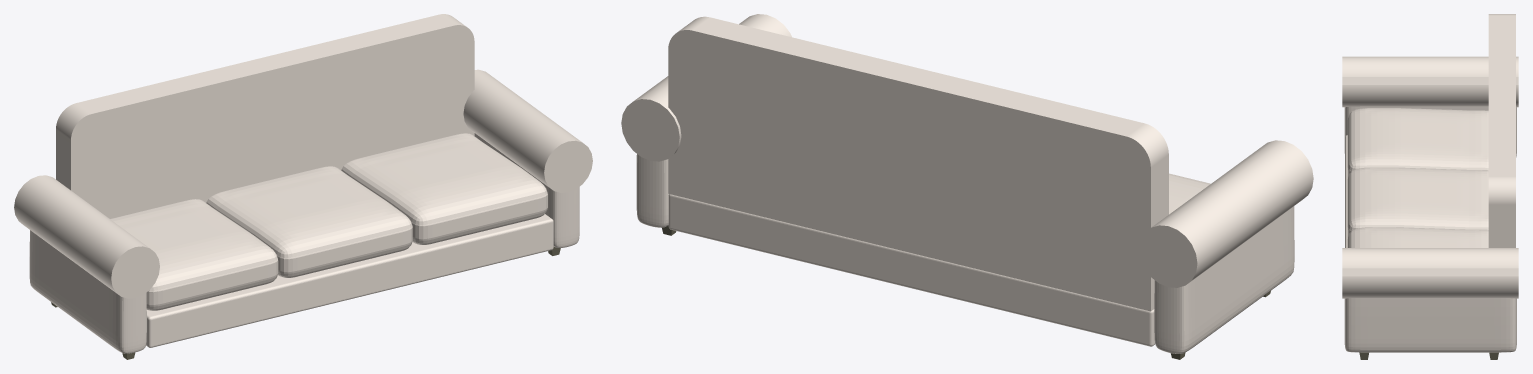
The model's file is Sofa.obj.
3 renders of one model, left to right at view 1: azimuth 30°, elevation 25°; view 2: azimuth 150°, elevation 25°; view 3: azimuth 270°, elevation 25°, orthographic. The views are drawn at different scales.
Visible parts, largest first — view 1: pCube1, CouchpolySurface8, CouchpolySurface10, CouchpolySurface9, CouchpolySurface11, pCylinder1, grouppasted__pCylinder1, CouchpolySurface6, pasted__CouchpolySurface6group; view 2: pCube1, CouchpolySurface8, pCylinder1, CouchpolySurface6, grouppasted__pCylinder1, pasted__CouchpolySurface6group, CouchpolySurface11; view 3: pasted__CouchpolySurface6group, grouppasted__pCylinder1, CouchpolySurface9, CouchpolySurface11, pCylinder1, pCube1, CouchpolySurface10, CouchpolySurface6, CouchpolySurface8.
Part boxes in pixels (box(x1,y1,x2,y2)): pCube1: box(56, 14, 474, 218); CouchpolySurface8: box(146, 214, 553, 347); CouchpolySurface10: box(341, 133, 547, 244); CouchpolySurface9: box(206, 166, 412, 277); CouchpolySurface11: box(110, 199, 278, 310); pCylinder1: box(14, 175, 159, 298); grouppasted__pCylinder1: box(463, 69, 592, 192); CouchpolySurface6: box(29, 230, 146, 353); pasted__CouchpolySurface6group: box(474, 133, 579, 247); pCube1: box(668, 16, 1168, 311); CouchpolySurface8: box(668, 194, 1155, 346); pCylinder1: box(1139, 140, 1313, 287); CouchpolySurface6: box(1154, 206, 1294, 353); grouppasted__pCylinder1: box(621, 14, 791, 161); pasted__CouchpolySurface6group: box(636, 154, 668, 227); CouchpolySurface11: box(1169, 173, 1210, 214); pasted__CouchpolySurface6group: box(1344, 298, 1516, 352); grouppasted__pCylinder1: box(1342, 248, 1518, 298); CouchpolySurface9: box(1347, 167, 1488, 238); CouchpolySurface11: box(1347, 108, 1488, 178); pCylinder1: box(1342, 56, 1518, 107); pCube1: box(1488, 14, 1515, 247); CouchpolySurface10: box(1347, 227, 1488, 247); CouchpolySurface6: box(1344, 106, 1516, 157); CouchpolySurface8: box(1345, 135, 1347, 247).
Size of the model in its own units: 4.93 by 1.82 by 1.72.
